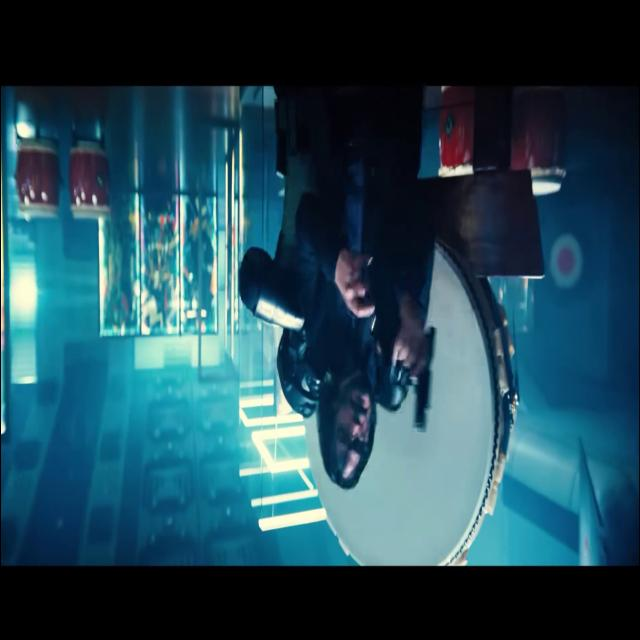weapons: (383, 310, 448, 450)
